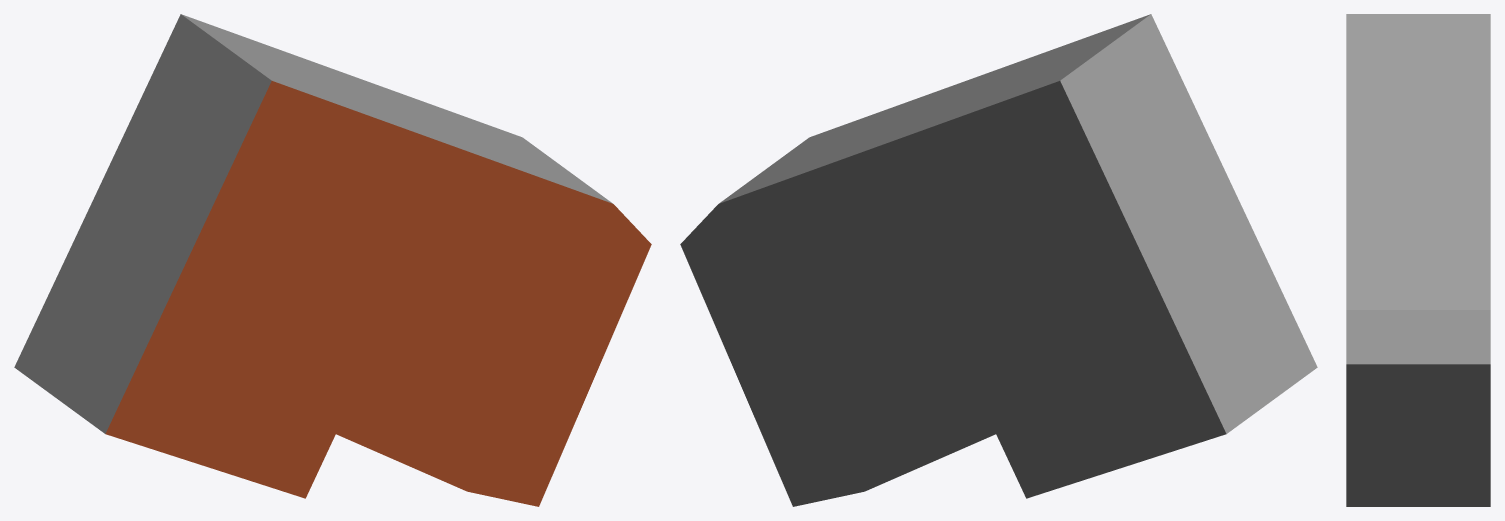
The model's file is construction_4235_assumed_A_Casa_h6m.obj.
3 views of the same model, side by side, from view 1: azimuth 30°, elevation 25°; view 2: azimuth 150°, elevation 25°; view 3: azimuth 270°, elevation 25° (orthographic). The views are drawn at different scales.
Visible parts, largest first — view 1: construction_4235_assumed_A_Casa; view 2: construction_4235_assumed_A_Casa; view 3: construction_4235_assumed_A_Casa.
Boxes of the visible parts, x1,y1,x2,y2 form: construction_4235_assumed_A_Casa: (14, 14, 651, 506); construction_4235_assumed_A_Casa: (680, 14, 1317, 506); construction_4235_assumed_A_Casa: (1346, 14, 1490, 506).
Bounding box in the file's own units: 20.77 × 17.85 × 6.
